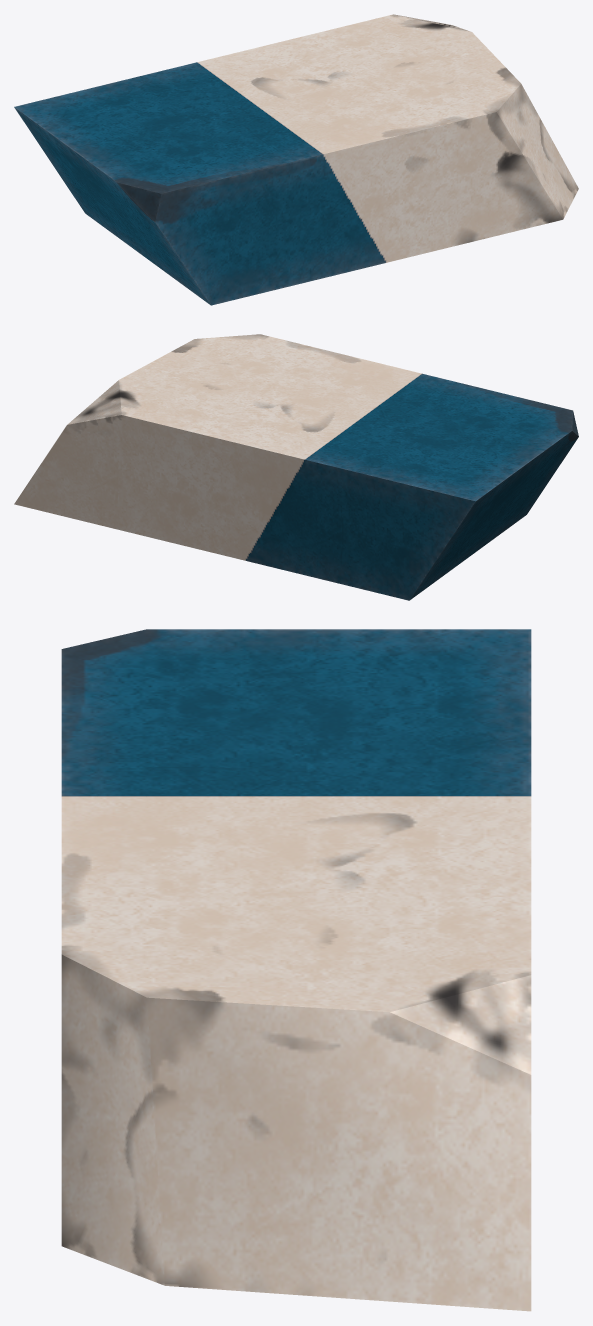
Rendered from eraser_lp.FBX.
3 views of the same model, one above another, from view 1: azimuth 30°, elevation 25°; view 2: azimuth 150°, elevation 25°; view 3: azimuth 270°, elevation 25° (orthographic). The views are drawn at different scales.
Visible parts, largest first — view 1: eraser; view 2: eraser; view 3: eraser.
Boxes of the visible parts, <box> form: eraser: <box>14,14,578,305</box>; eraser: <box>14,334,578,600</box>; eraser: <box>61,629,531,1311</box>.
Bounding box in the file's own units: 3.52 × 0.843 × 1.55.
1 material, 1 textured.
